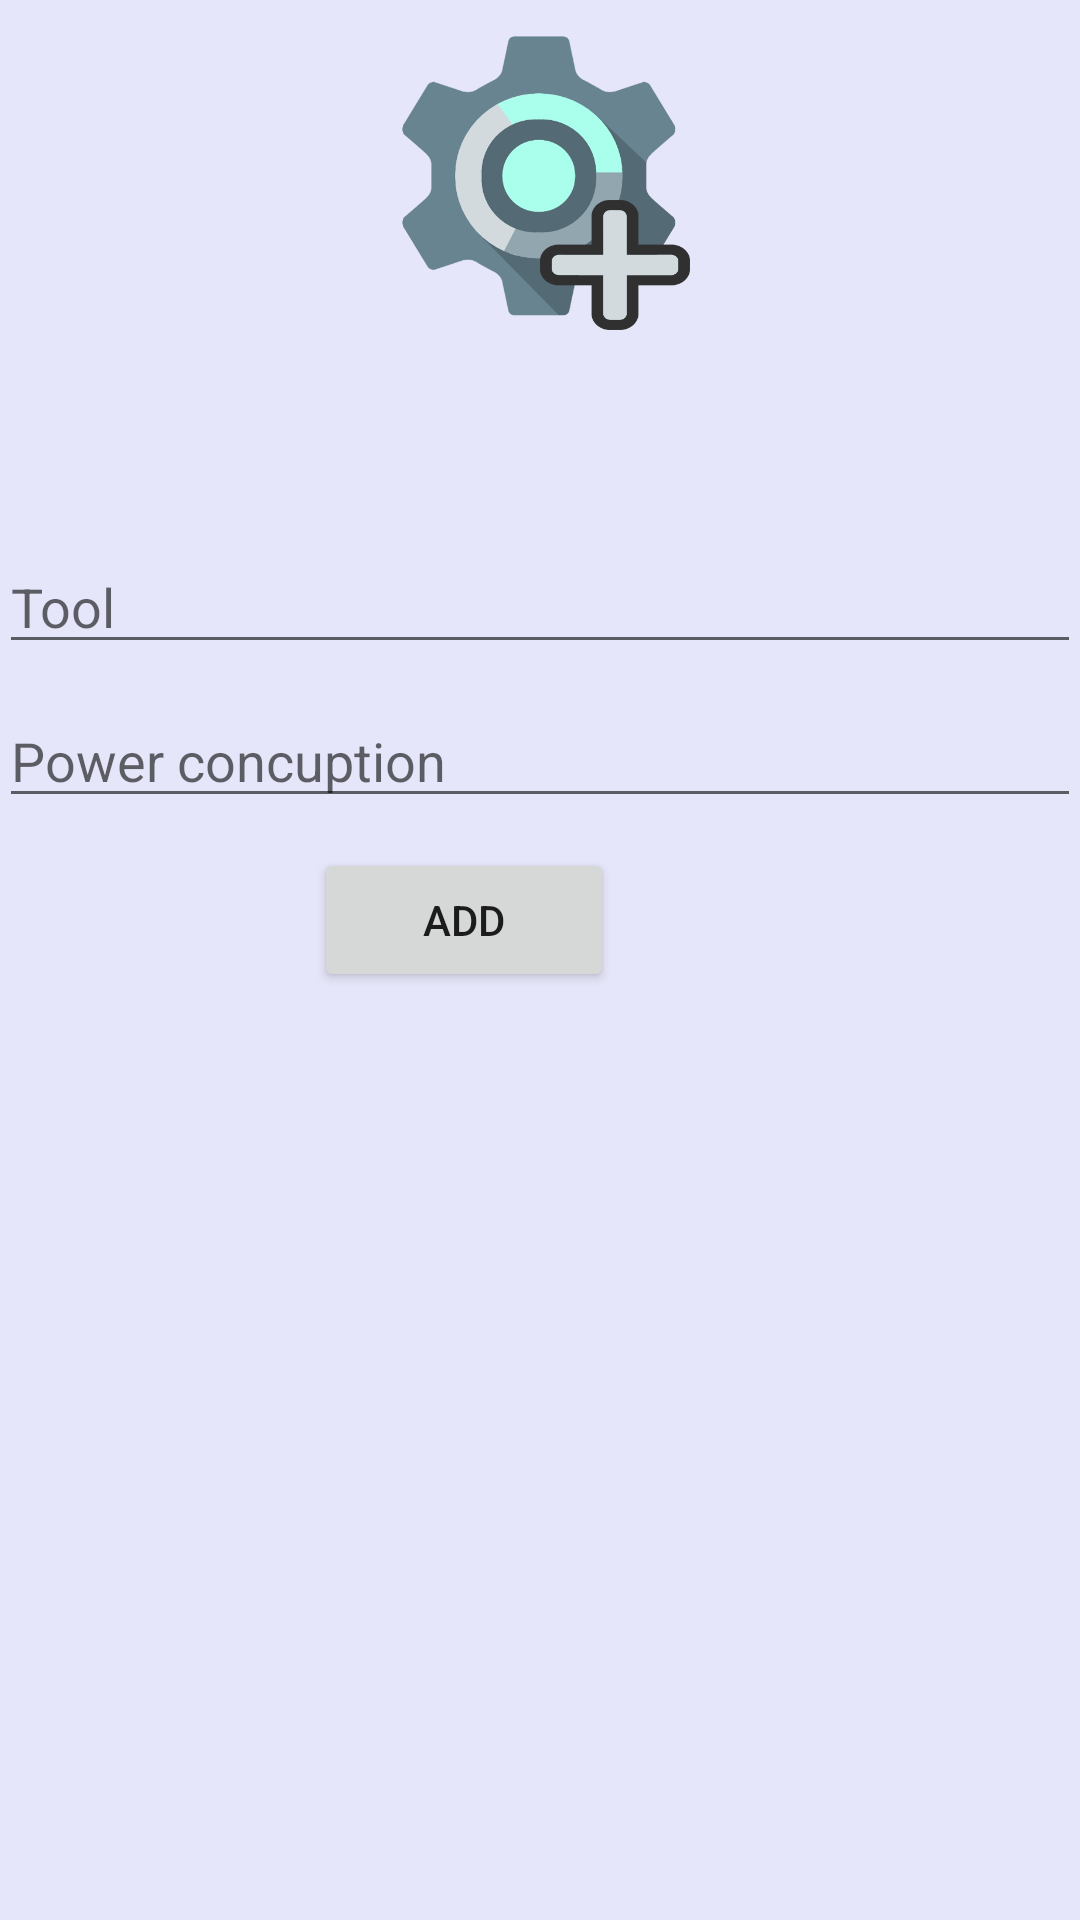

Icon bounding boxes for this 1080*1920 phone screenshot, format (x1, y1, x2, y2):
setting: (402, 36, 690, 330)
